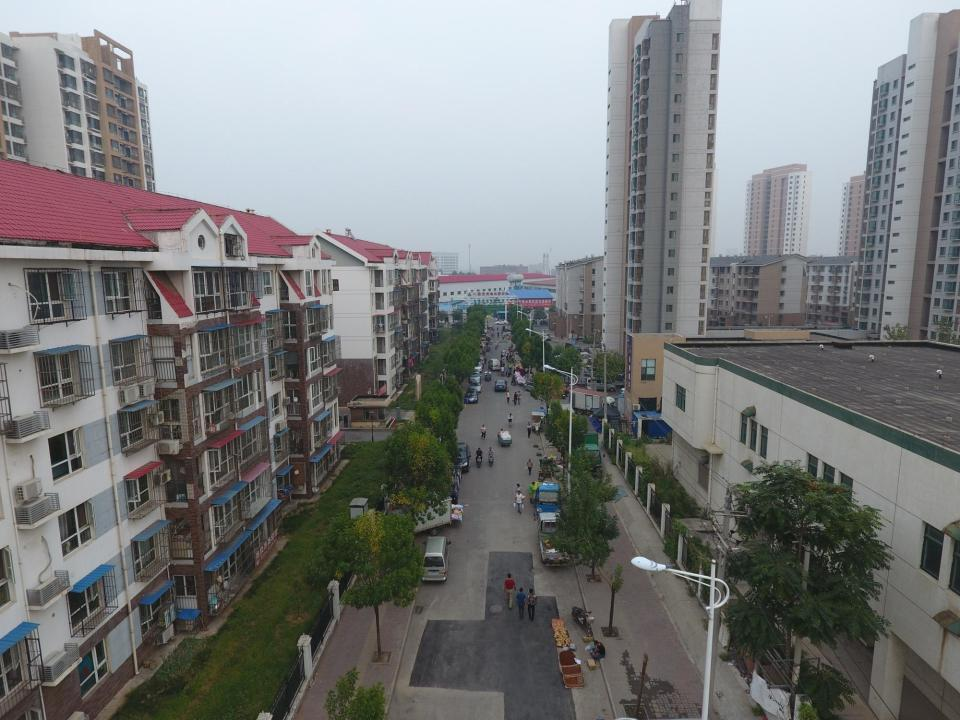car: (447, 442, 472, 472), (563, 385, 589, 397), (616, 371, 643, 381), (620, 386, 651, 394), (464, 388, 479, 403), (565, 342, 581, 354), (522, 382, 540, 392), (469, 380, 482, 393), (494, 380, 507, 391), (470, 371, 482, 382), (472, 361, 482, 373), (450, 320, 464, 326), (495, 319, 508, 325), (542, 333, 550, 341)
truck: (388, 492, 452, 536), (568, 415, 606, 477), (533, 512, 570, 566), (570, 388, 618, 418), (535, 480, 561, 516)
van: (421, 536, 452, 581), (586, 376, 616, 392), (584, 365, 607, 378), (487, 358, 500, 370)
